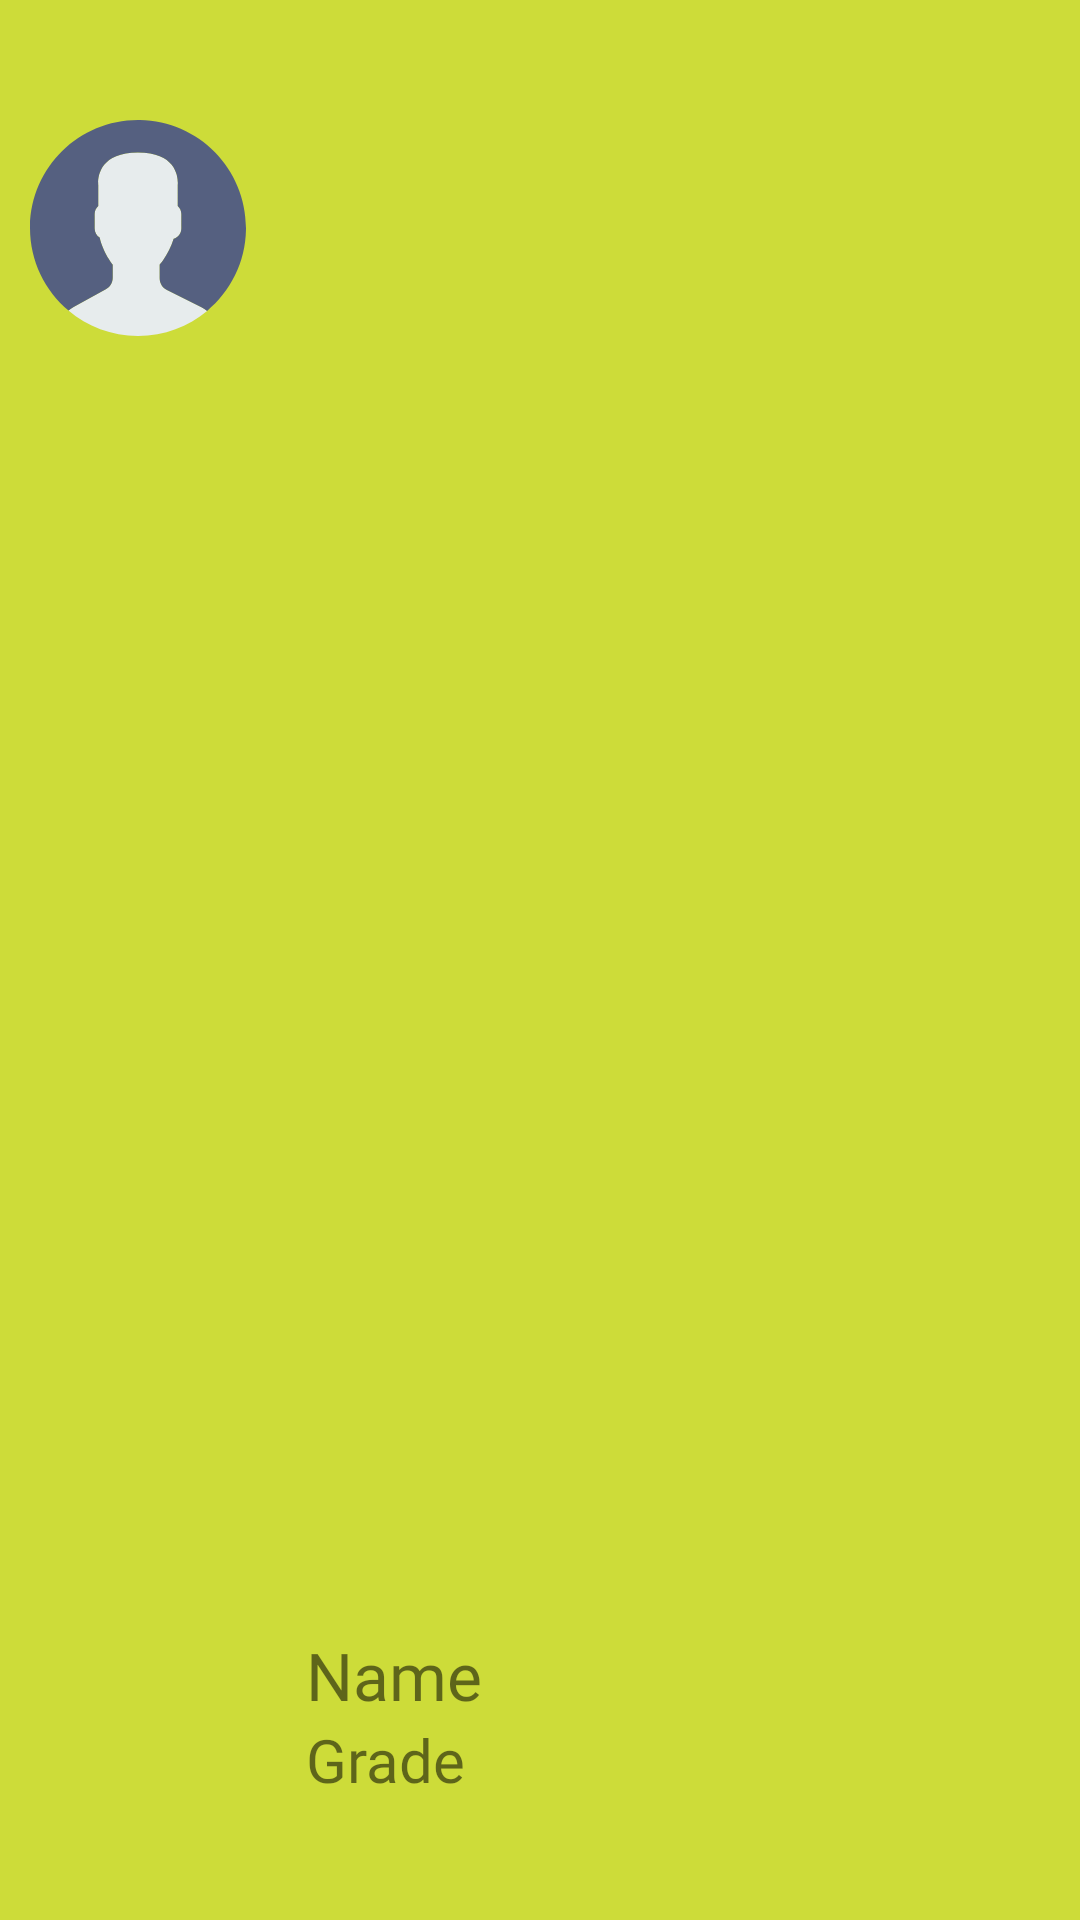

Screen size 1080×1920. Icon name, then its box in pixels as Rect(x1, y1, x2, y2):
user: Rect(30, 120, 246, 336)
